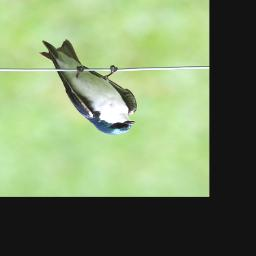Swallow: (38, 39, 138, 135)
